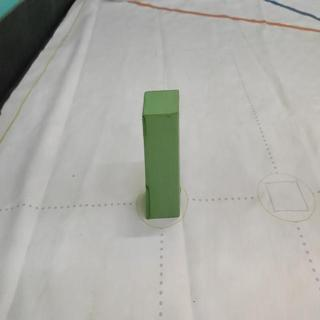greenbox: (142, 87, 183, 220)
